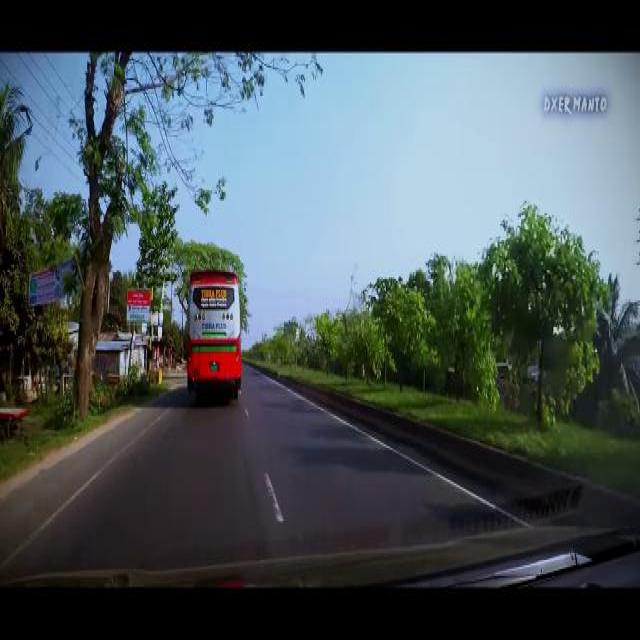bus: (183, 265, 242, 402)
